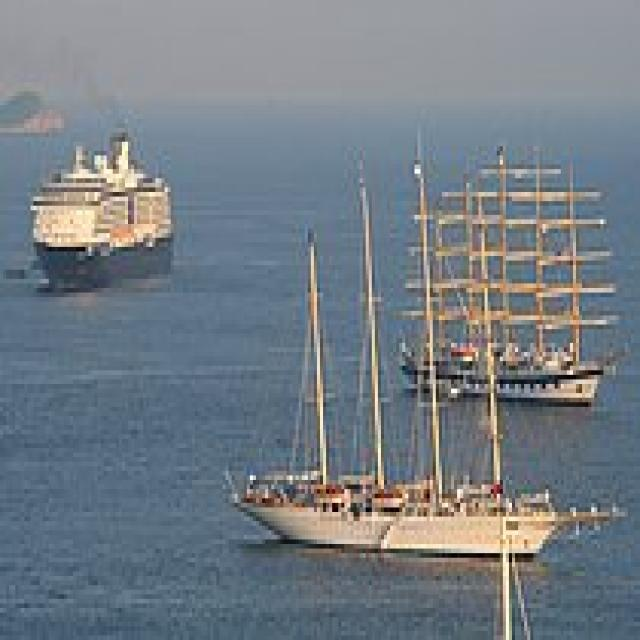Cruise: (27, 128, 174, 288)
